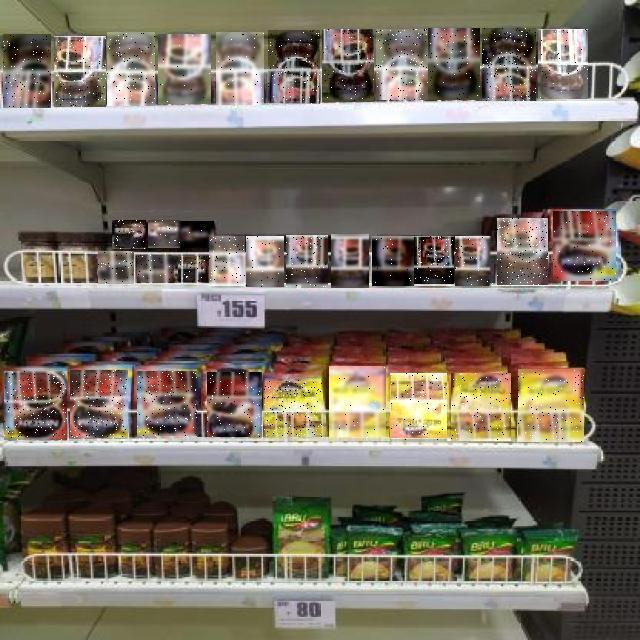Coffee: (518, 369, 584, 442), (553, 211, 616, 281), (4, 371, 67, 440), (451, 373, 511, 441), (329, 366, 386, 437), (138, 372, 198, 438), (70, 370, 128, 438), (482, 28, 536, 101), (390, 374, 447, 442), (268, 30, 320, 104), (323, 29, 375, 102), (376, 29, 429, 100), (428, 28, 480, 100), (158, 34, 211, 104), (54, 36, 106, 107), (207, 372, 262, 437), (107, 32, 155, 106), (3, 34, 51, 108), (216, 32, 264, 105), (538, 29, 588, 99), (497, 218, 548, 285), (264, 380, 322, 437), (286, 236, 328, 288), (372, 236, 414, 286), (331, 234, 369, 288), (247, 236, 285, 287), (414, 236, 454, 284), (456, 236, 494, 286), (209, 236, 245, 286), (98, 251, 134, 284), (178, 222, 214, 250), (112, 220, 146, 249), (137, 255, 172, 282), (148, 221, 180, 249), (178, 256, 208, 282)
